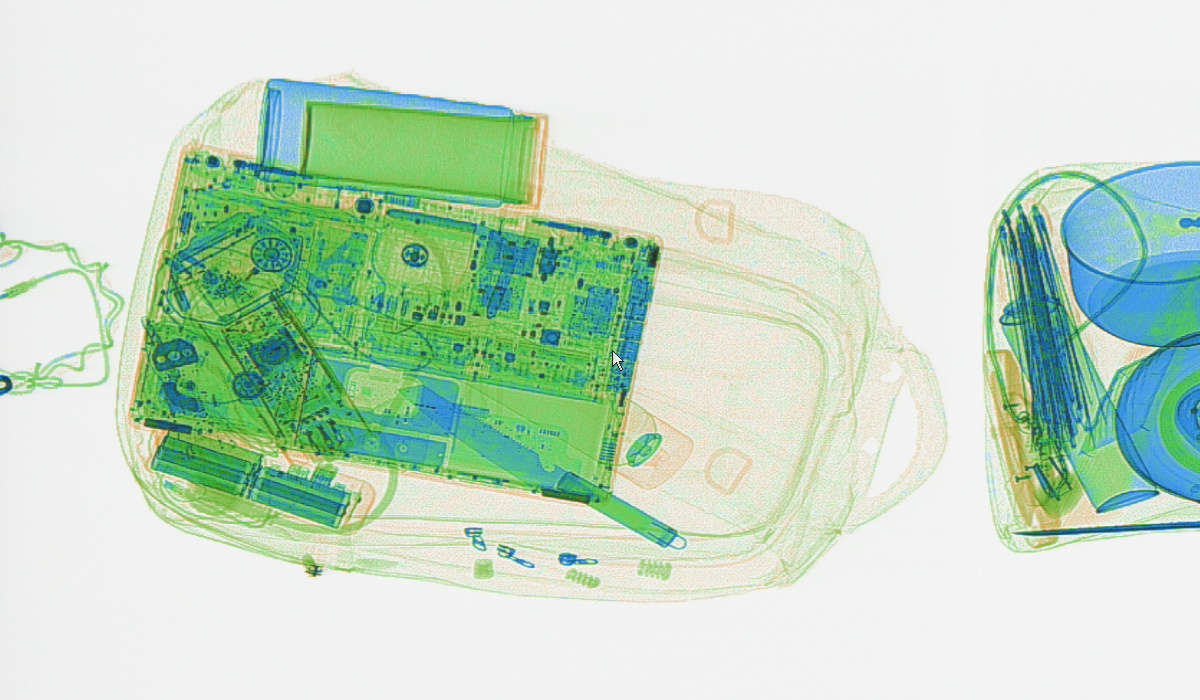knife: (397, 381, 681, 547)
powerbank: (143, 423, 372, 536)
pressure: (995, 289, 1161, 514)
